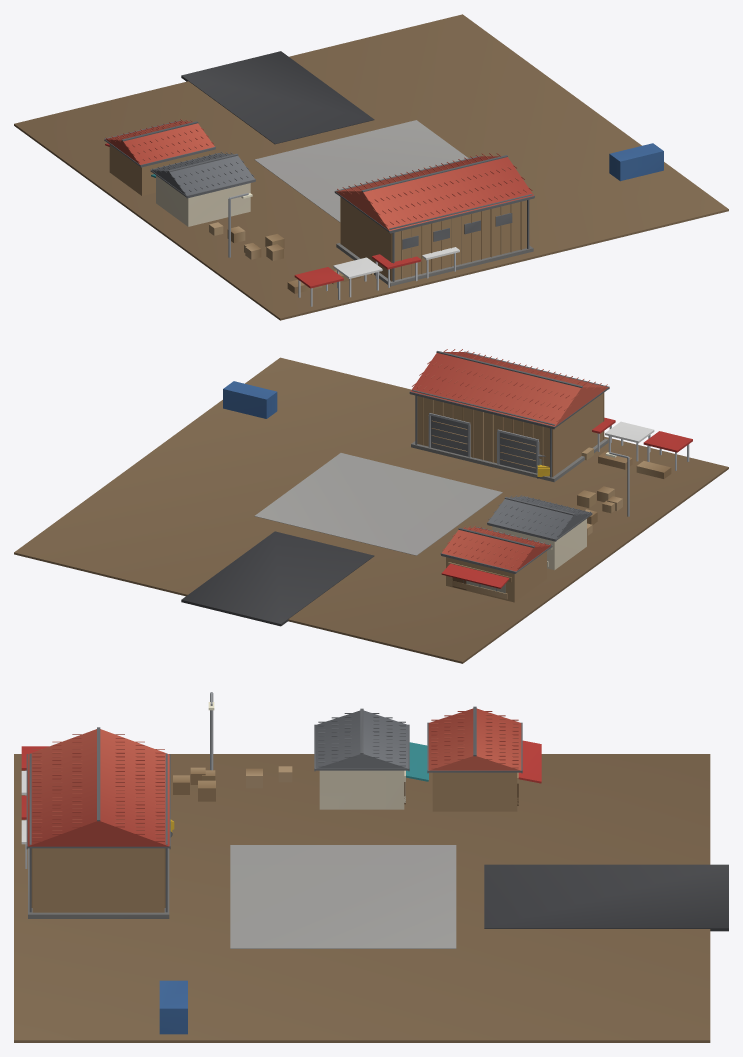
Rendered from Market_P1.fbx.
3 views of the same model, one above another, from view 1: azimuth 30°, elevation 25°; view 2: azimuth 150°, elevation 25°; view 3: azimuth 270°, elevation 25° (orthographic). The views are drawn at different scales.
Visible parts, largest first — view 1: Market.Pad, Market.WH1, Market.Shop1, Market.Shop0, Market.Goods, Market.Stalls; view 2: Market.Pad, Market.WH1, Market.Shop0, Market.Shop1, Market.Stalls, Market.Goods; view 3: Market.Pad, Market.WH1, Market.Shop0, Market.Shop1, Market.Goods, Market.Stalls.
Boxes of the visible parts, <box> form: Market.Pad: <box>14,14,728,320</box>; Market.WH1: <box>334,153,534,286</box>; Market.Shop1: <box>150,152,255,226</box>; Market.Shop0: <box>104,119,215,195</box>; Market.Goods: <box>209,143,663,260</box>; Market.Stalls: <box>287,247,459,306</box>; Market.Pad: <box>14,357,728,663</box>; Market.WH1: <box>409,349,609,482</box>; Market.Shop0: <box>440,526,552,602</box>; Market.Shop1: <box>487,495,592,570</box>; Market.Stalls: <box>581,417,692,478</box>; Market.Goods: <box>223,381,622,536</box>; Market.Pad: <box>14,754,728,1042</box>; Market.WH1: <box>26,727,170,918</box>; Market.Shop0: <box>427,706,541,811</box>; Market.Shop1: <box>314,708,428,809</box>; Market.Goods: <box>159,766,292,1034</box>; Market.Stalls: <box>21,746,48,868</box>.
Bounding box in the file's own units: 7200 × 1199 × 7600.
